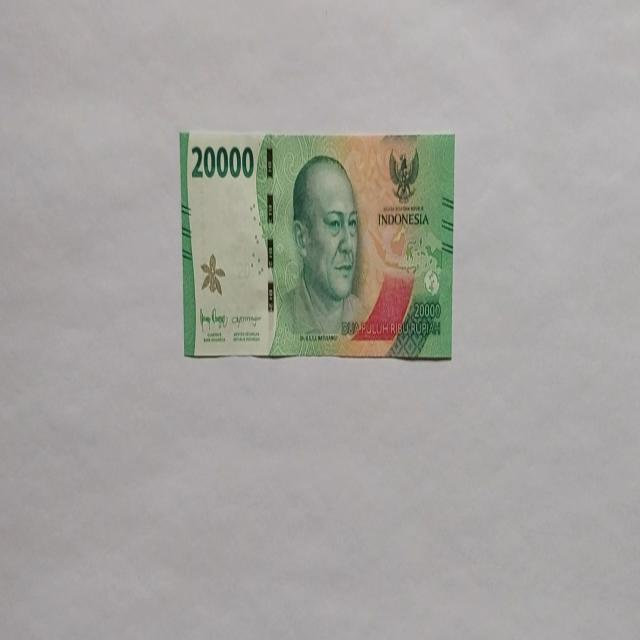dua puluh ribu rupiah: (178, 128, 456, 361)
